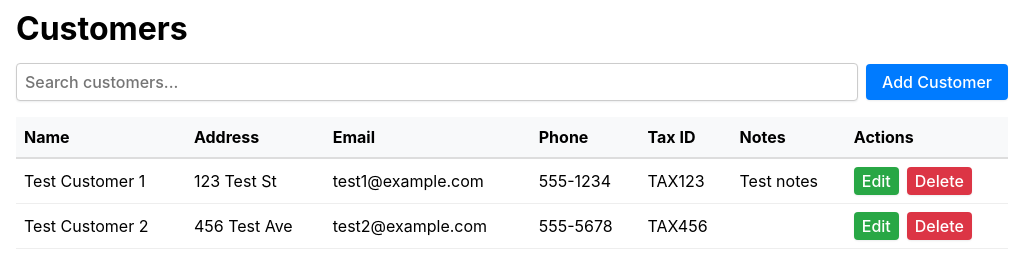
Scenario: CustomersPage › allows searching customers
The width and height of the screenshot is (1024, 266).
Check: the text "Test Customer 1" is shown, box [16,158,186,203]
# Enter search term
Type "Test Customer 2" into the field with placeholder "Search customers..." at (437, 82), box [16,63,858,101]
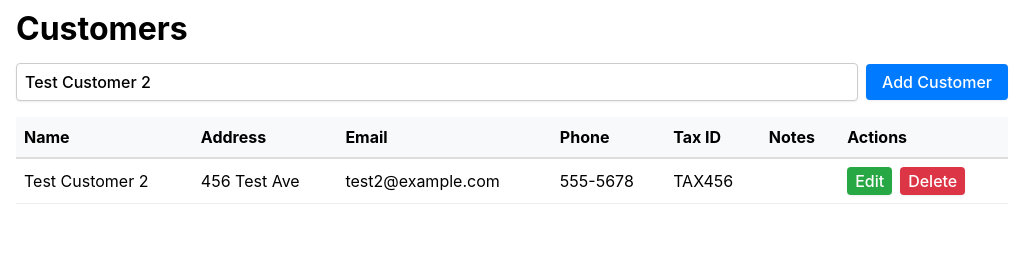
Check: the text "Test Customer 2" is shown, box [16,158,193,203]
Check: the text "Test Customer 1" is gone
